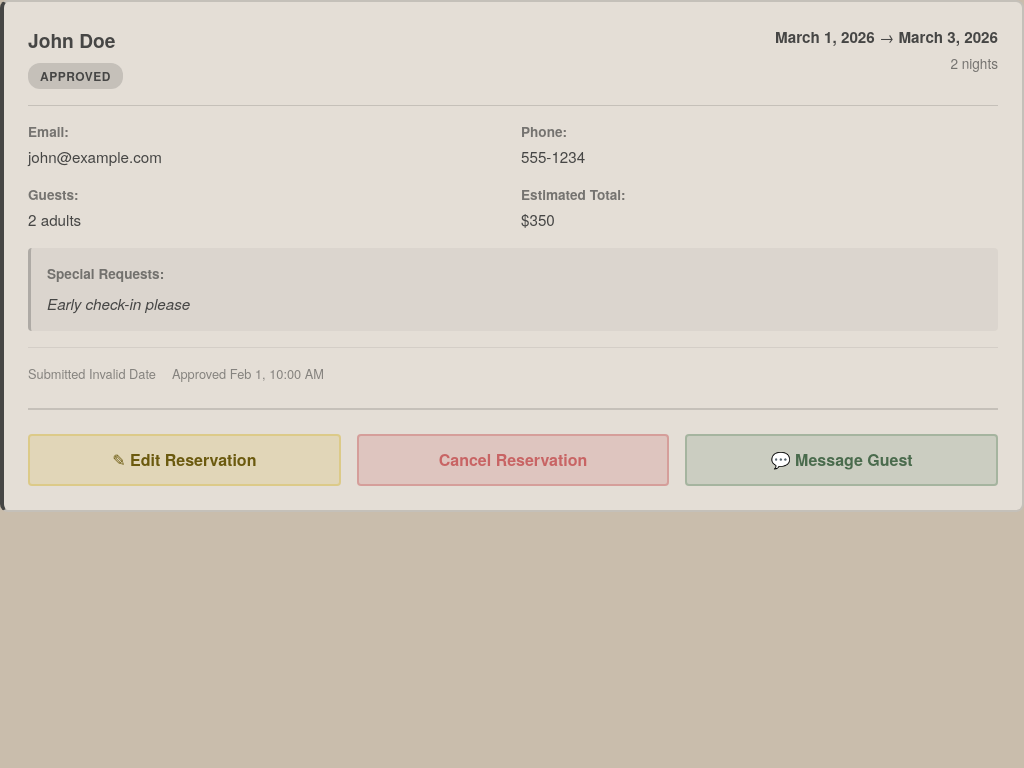
Test: ReservationCard › Cancellation flow › clears error when typing in cancellation message
Click the button "Cancel Reservation" at (513, 460), box 357,434 -> 669,486
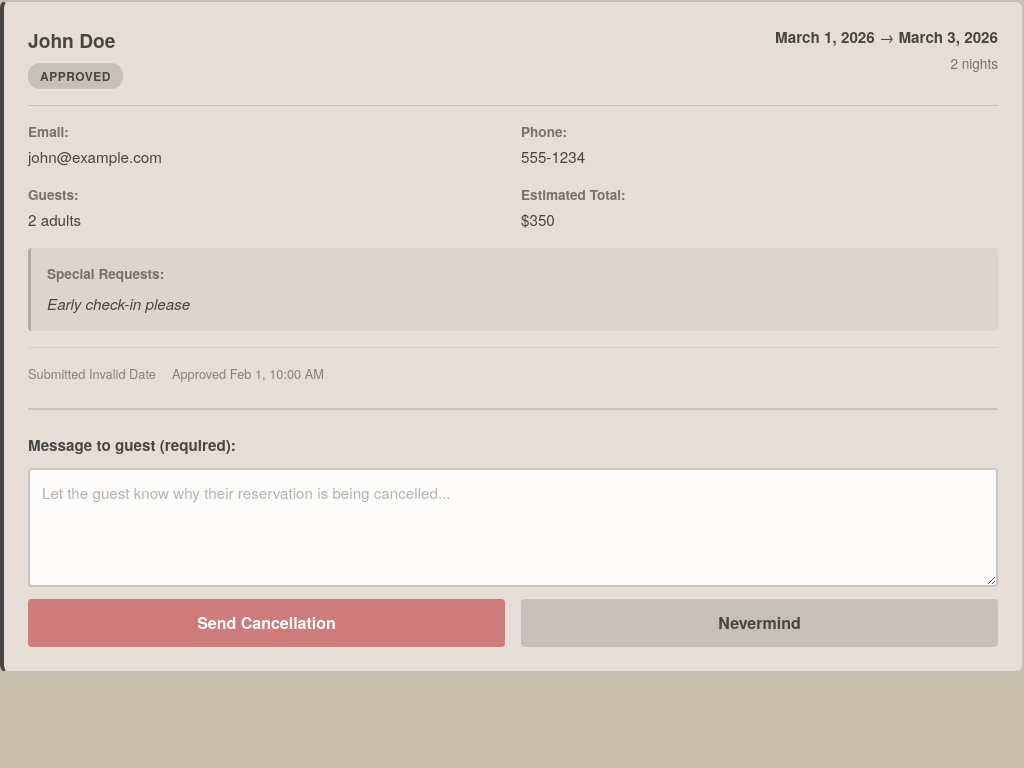
# Trigger error
Click the button "Send Cancellation" at (266, 624), box 28,600 -> 505,648
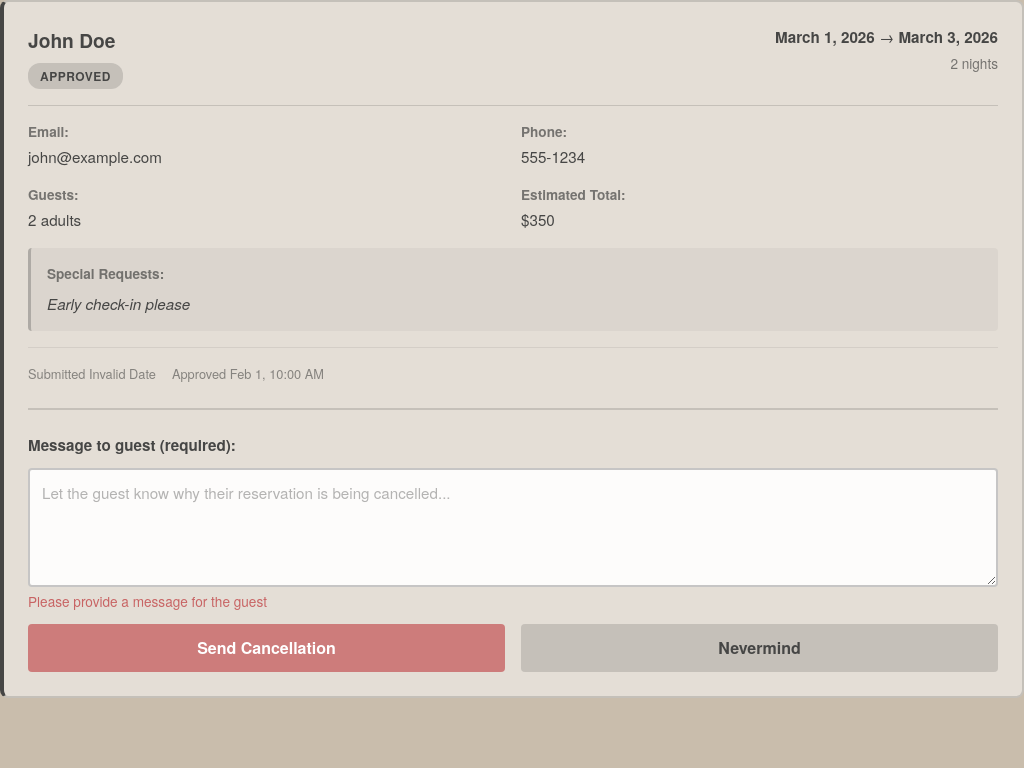
Check: the text "Please provide a message for the guest" is shown, box 28,592 -> 267,612
# Type to clear error
Replace the text in the text box with placeholder "Let the guest know why their reservation is being cancelled" with "Reason" at (513, 528), box 28,468 -> 998,587
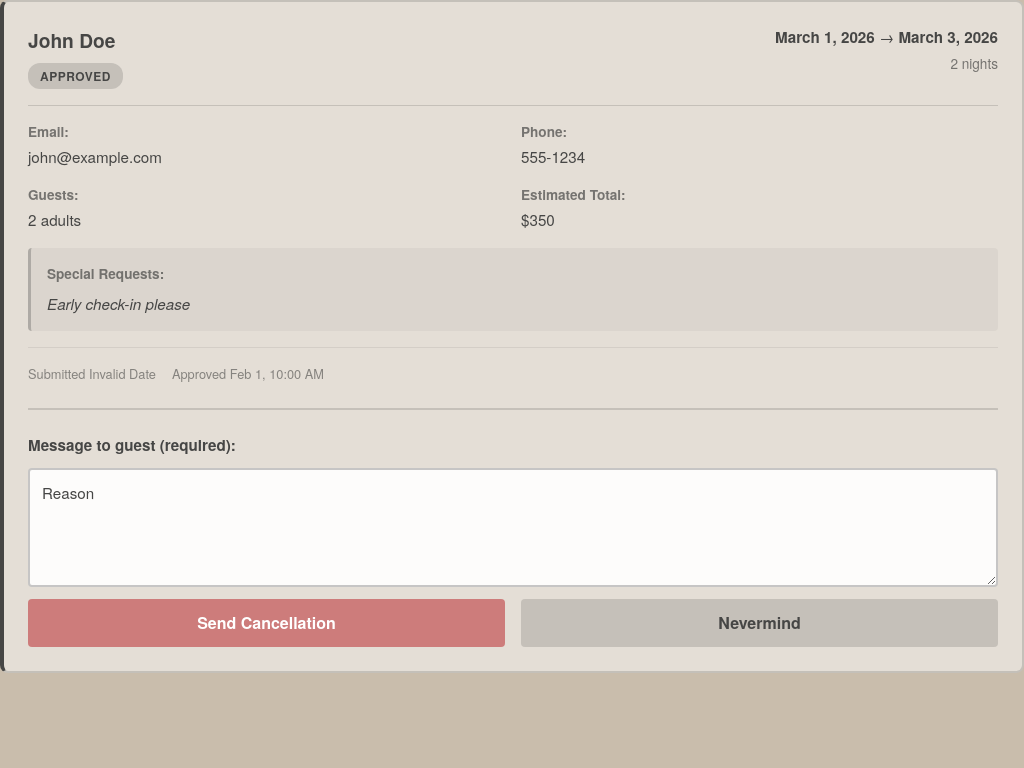
Check: the text "Please provide a message for the guest" is gone
